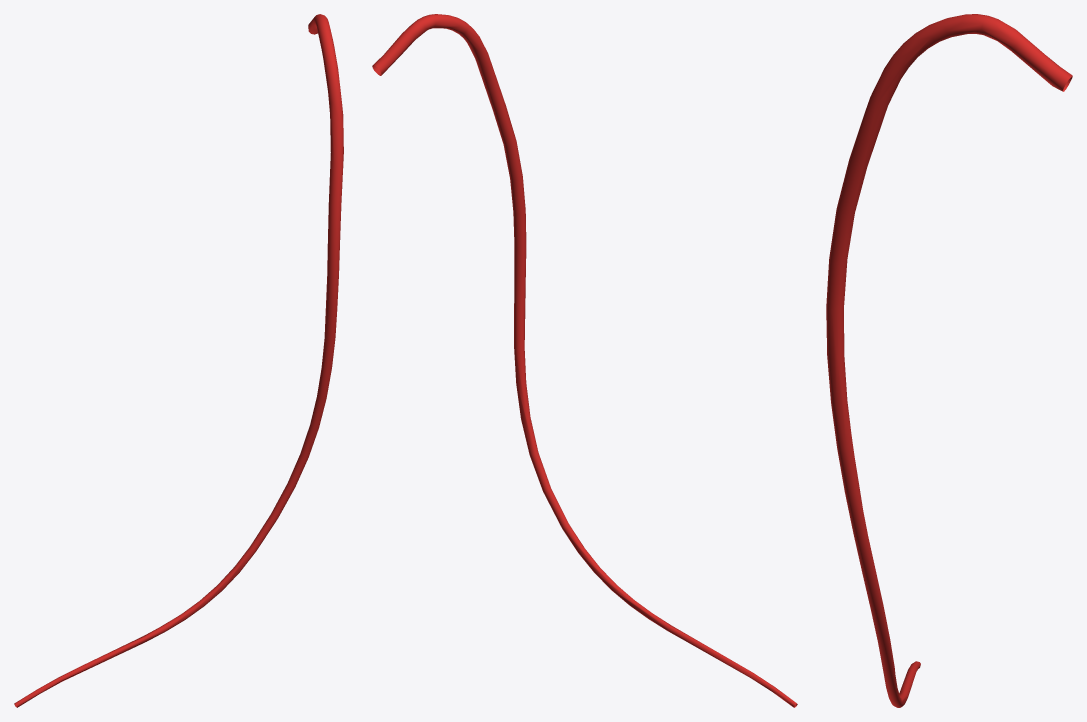
File: circulatorio-superior-thyroid-vein-l.glb
3 renders of one model, left to right at view 1: azimuth 30°, elevation 25°; view 2: azimuth 150°, elevation 25°; view 3: azimuth 270°, elevation 25°, orthographic. The views are drawn at different scales.
Parts seen in each view (by area): view 1: Superior thyroid vein.l; view 2: Superior thyroid vein.l; view 3: Superior thyroid vein.l.
Part boxes in pixels (x1=…): Superior thyroid vein.l: x1=14, y1=14, x2=343, y2=707; Superior thyroid vein.l: x1=372, y1=14, x2=797, y2=707; Superior thyroid vein.l: x1=826, y1=14, x2=1072, y2=707.
Bounding box in the file's own units: 0.0308 × 0.0492 × 0.0123.
